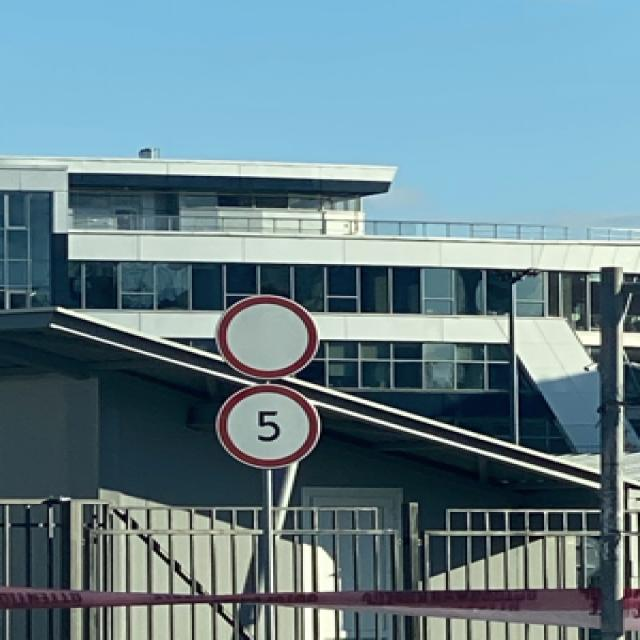speedlimit: (213, 382, 316, 466)
